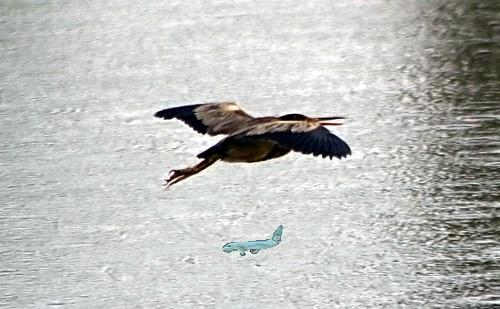tampered: (223, 226, 283, 256)
